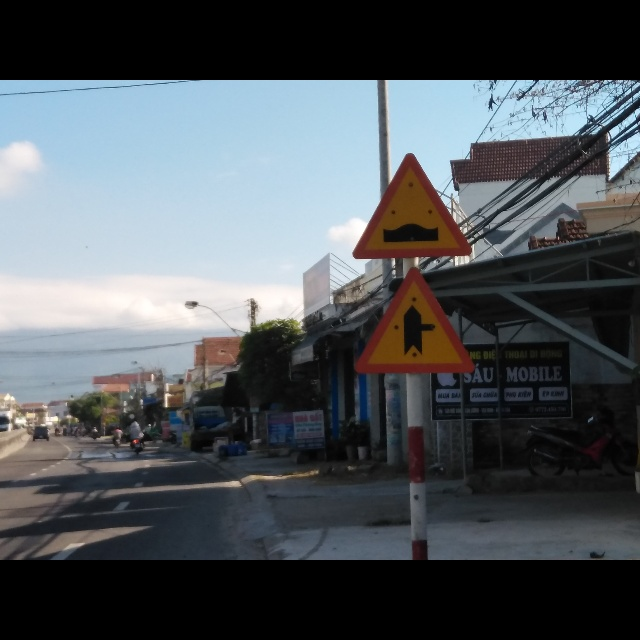Giao nhau với đường không ưu tiên: (356, 267, 473, 377)
Đường không bằng phẳng: (353, 149, 475, 263)
